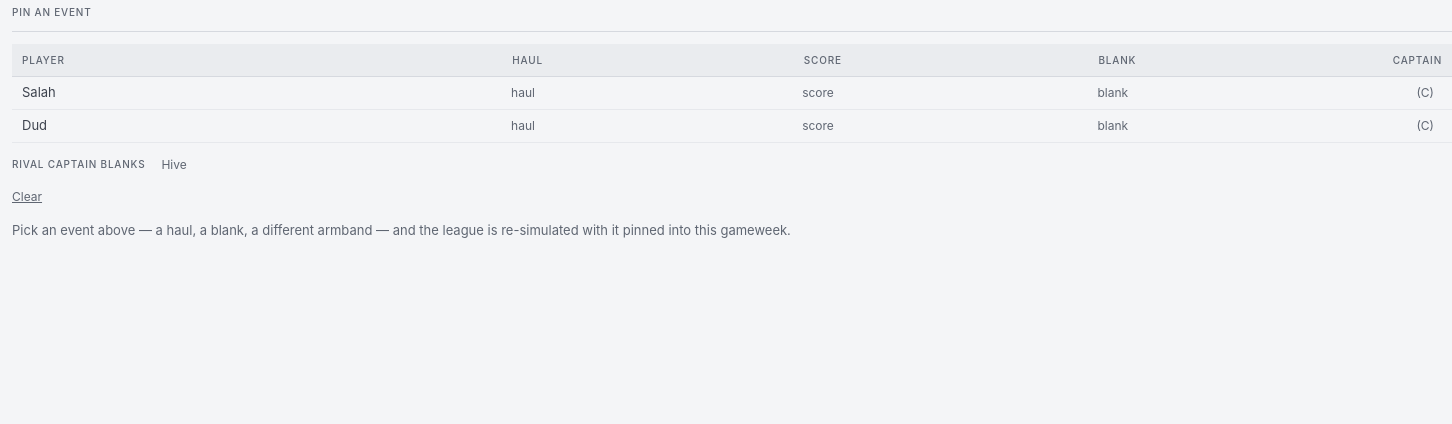
it: WhatIfSim › clears back to no pins
Click the button with test id "pin-100-blank": (1113, 92) 1090,82 -> 1136,102
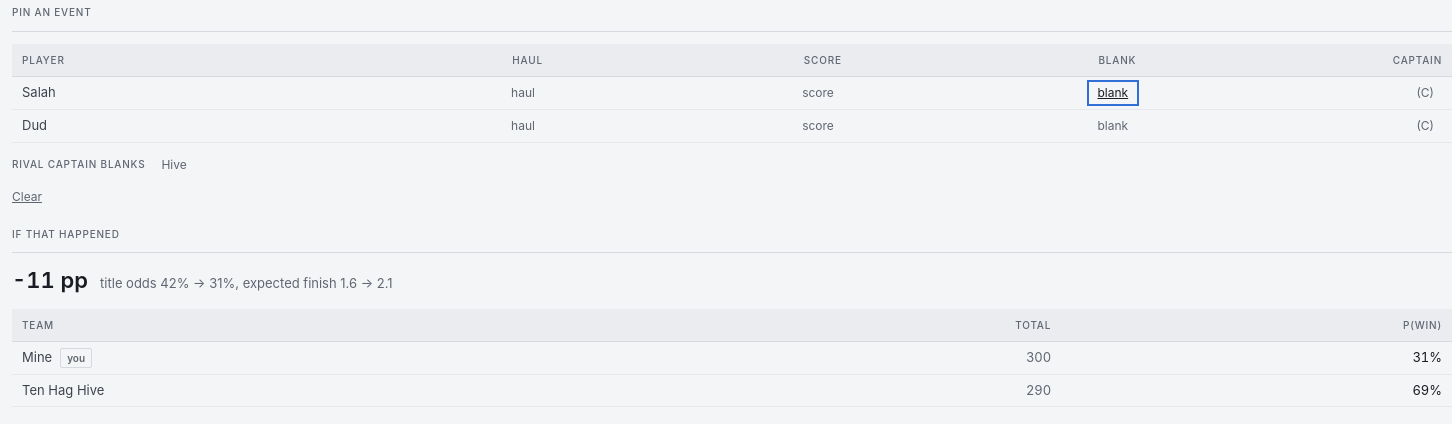
Result: the text "-11 pp" is shown at 12,265 -> 88,297
Click the button "Clear": (27, 196) 12,188 -> 42,204
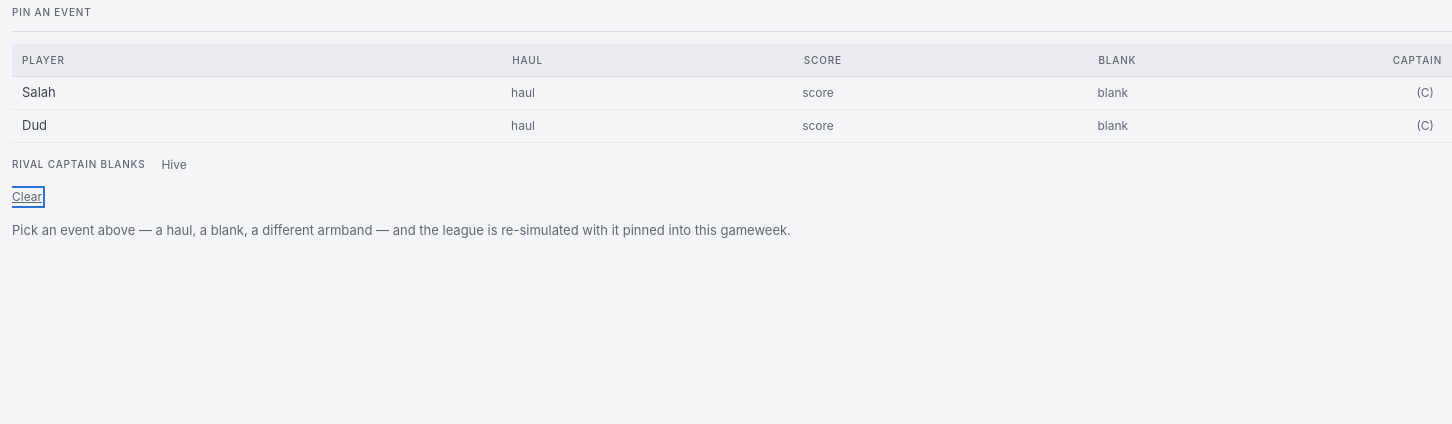
Result: the text "Pick an event" is shown at 12,222 -> 791,238
